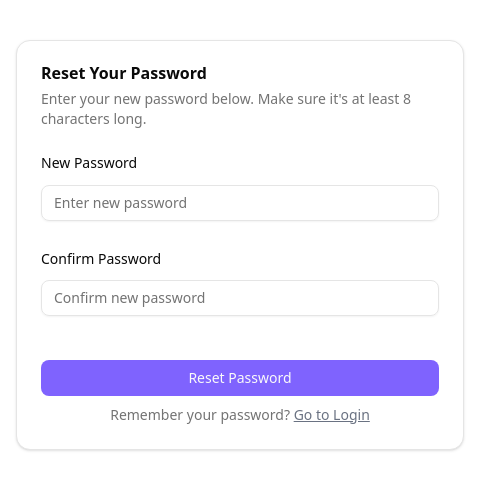
Scenario: ResetPasswordForm › shows API error message on failure
The image size is (481, 492).
Type "password123" into the password field labelled "New Password".
click(240, 202); type("password123")  # box [41,184,439,220]
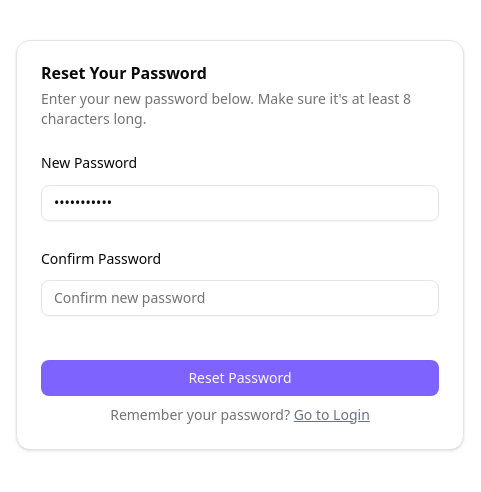
Type "password123" into the password field labelled "Confirm Password".
click(240, 298); type("password123")  # box [41,280,439,316]
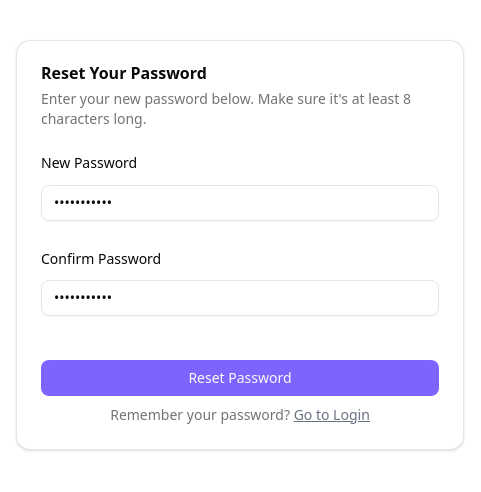
Click the button "Reset Password".
click(240, 378)  # box [41,360,439,396]
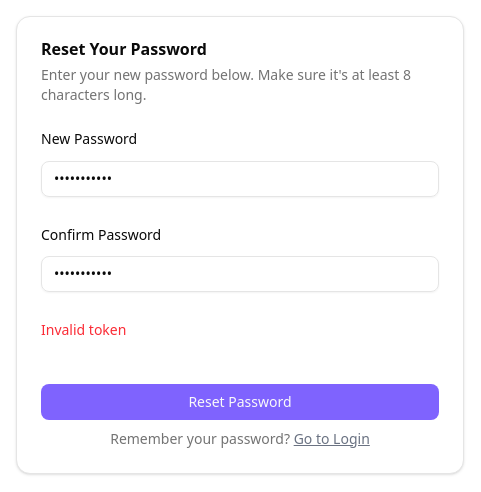
Result: the text "Invalid token" is shown at [41,320,126,339]
